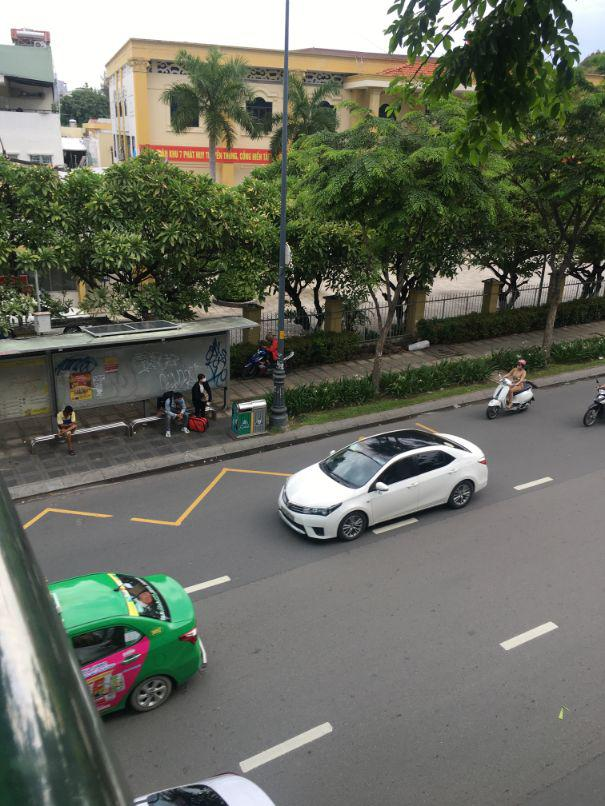car: (48, 565, 209, 723), (277, 428, 489, 544)
motorbike: (583, 378, 604, 428)
